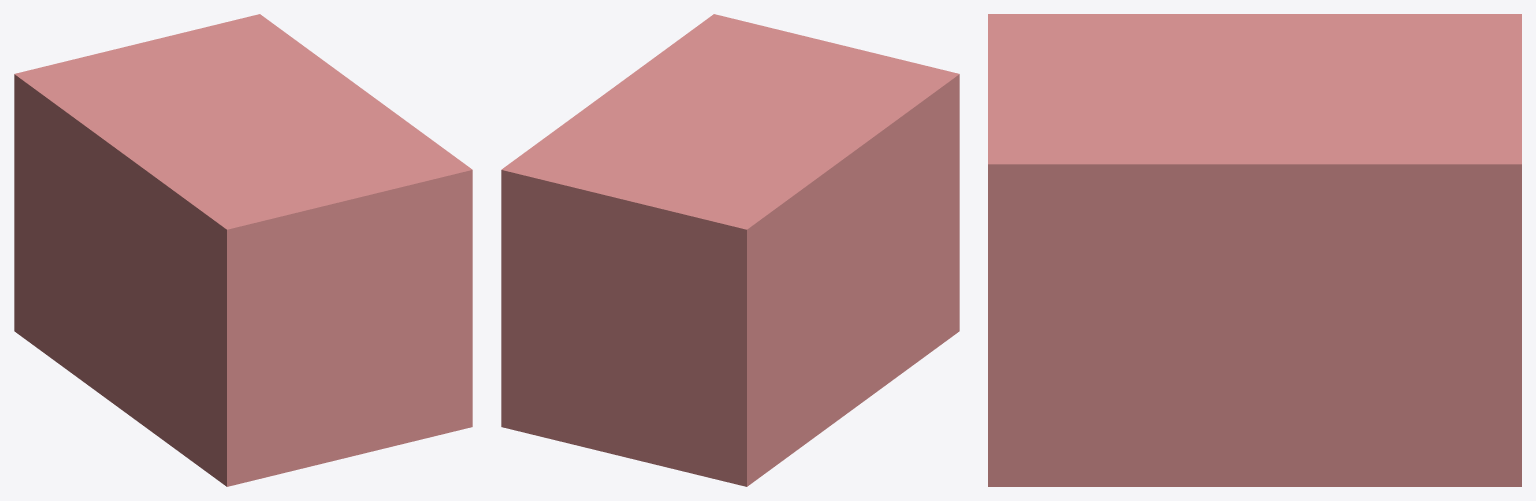
Rendered from flamingo__tail.glb.
3 renders of one model, left to right at view 1: azimuth 30°, elevation 25°; view 2: azimuth 150°, elevation 25°; view 3: azimuth 270°, elevation 25°, orthographic. The views are drawn at different scales.
Parts seen in each view (by area): view 1: flamingo__tail; view 2: flamingo__tail; view 3: flamingo__tail.
Boxes of the visible parts, bbox=[...] form: flamingo__tail: bbox=[14, 14, 472, 486]; flamingo__tail: bbox=[501, 14, 959, 486]; flamingo__tail: bbox=[988, 14, 1521, 486].
Size of the model in its own units: 0.2 by 0.2 by 0.3.
1 material, 1 textured.
